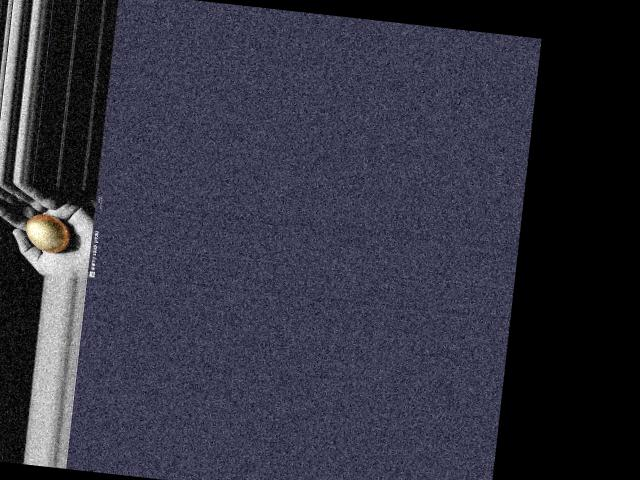egg: (23, 212, 71, 253)
